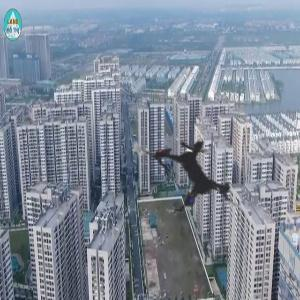drone: (101, 86, 279, 264)
